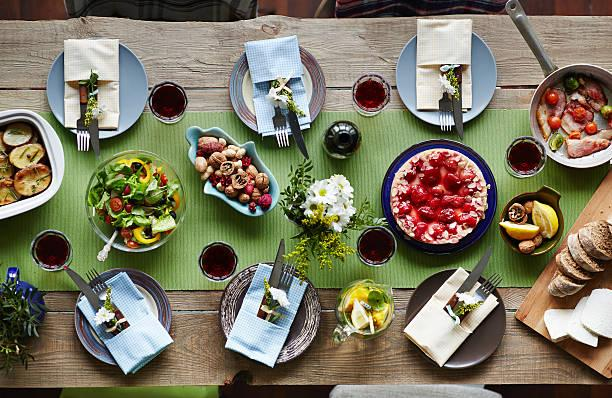Braised Crucian Carp: (380, 138, 496, 253), (84, 149, 186, 251), (529, 64, 610, 169), (185, 126, 278, 215)
